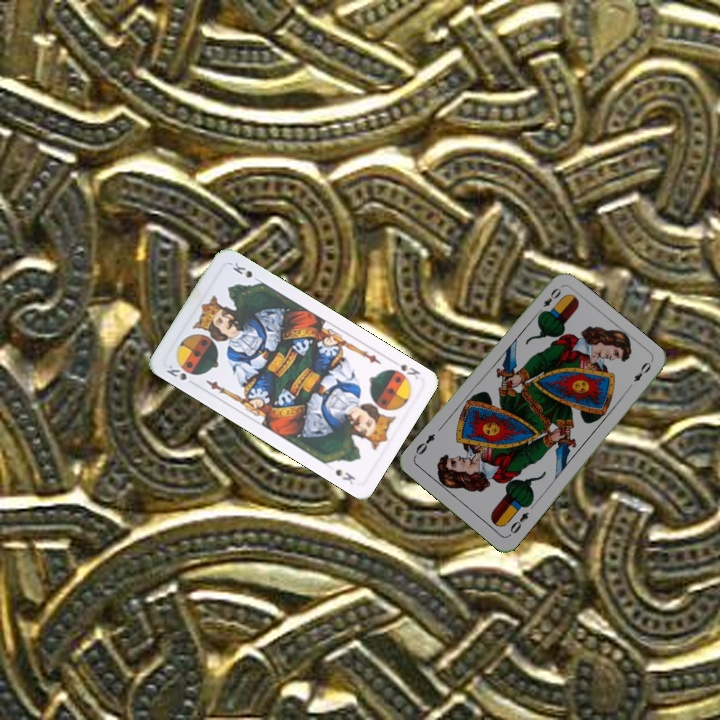EO: (533, 283, 564, 317), (505, 508, 531, 539)
SK: (385, 355, 423, 383), (162, 361, 199, 388)
